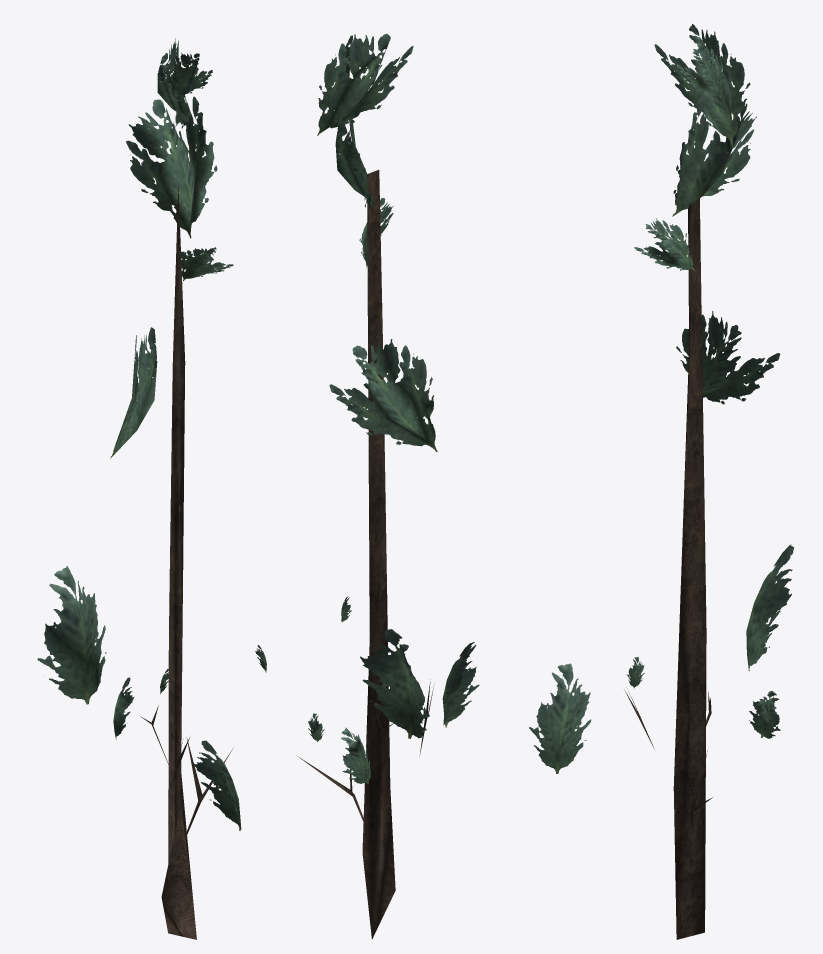
File: tree_cypress_far.gltf
3 views of the same model, side by side, from view 1: azimuth 30°, elevation 25°; view 2: azimuth 150°, elevation 25°; view 3: azimuth 270°, elevation 25° (orthographic).
Visible parts, largest first — view 1: tree_cypress_far; view 2: tree_cypress_far; view 3: tree_cypress_far.
Part boxes in pixels (left/top/right/bottom): tree_cypress_far: left=37, top=38, right=266, bottom=939; tree_cypress_far: left=296, top=33, right=479, bottom=939; tree_cypress_far: left=529, top=24, right=794, bottom=939.
Bounding box in the file's own units: 1.85 × 9.1 × 2.52.
Materials: 2 (2 with a texture image).
